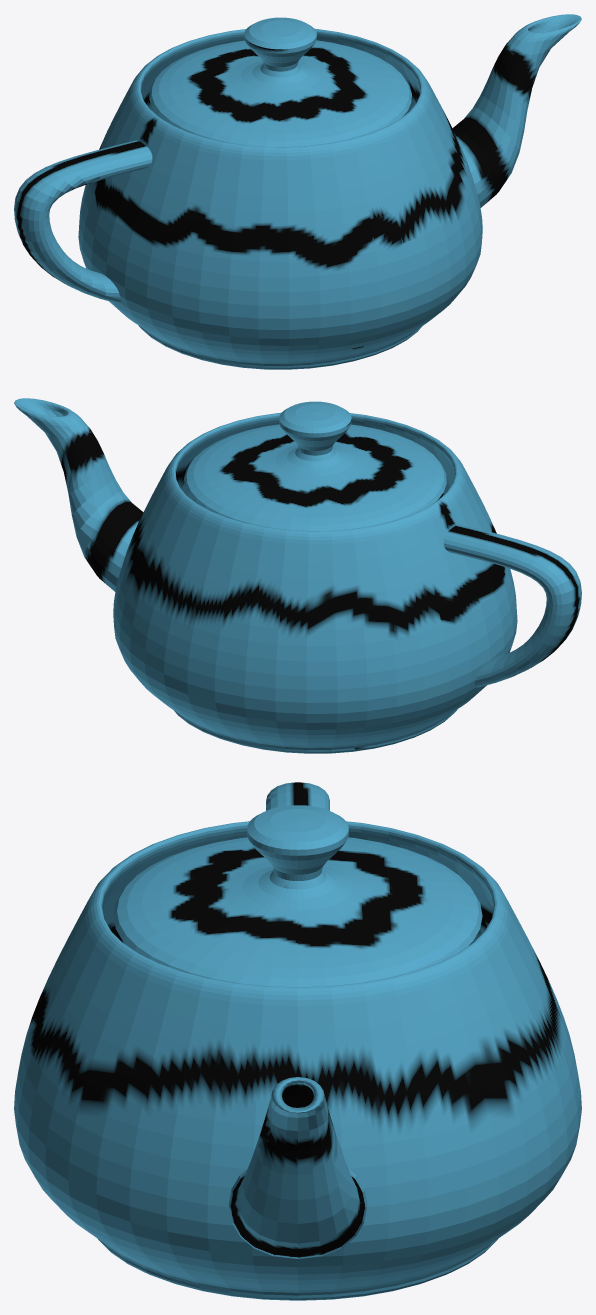
The model's file is teapot.obj.
3 views of the same model, one above another, from view 1: azimuth 30°, elevation 25°; view 2: azimuth 150°, elevation 25°; view 3: azimuth 270°, elevation 25° (orthographic). The views are drawn at different scales.
Visible parts, largest first — view 1: MIT_teapot; view 2: MIT_teapot; view 3: MIT_teapot.
Boxes of the visible parts, box(x1,y1,x2,y2) form: MIT_teapot: box(14, 14, 581, 369); MIT_teapot: box(14, 398, 581, 753); MIT_teapot: box(14, 782, 581, 1300).
Bounding box in the file's own units: 6.43 × 3.15 × 4.
